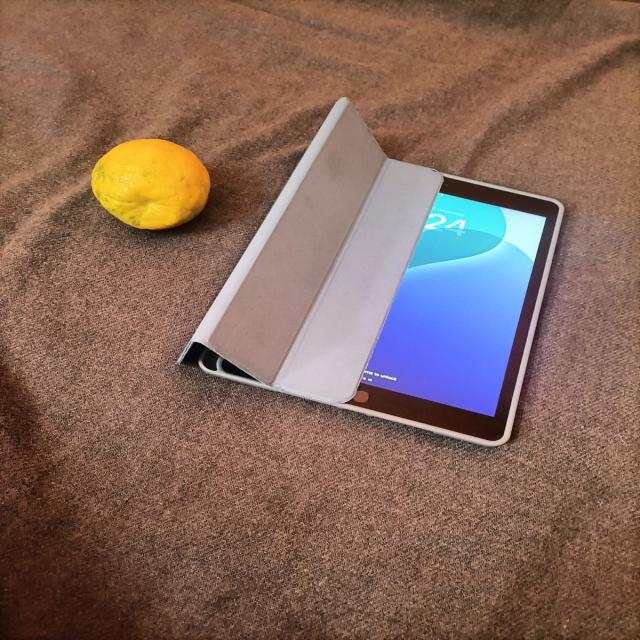orange: (73, 134, 232, 247)
tablet: (169, 79, 598, 479)
